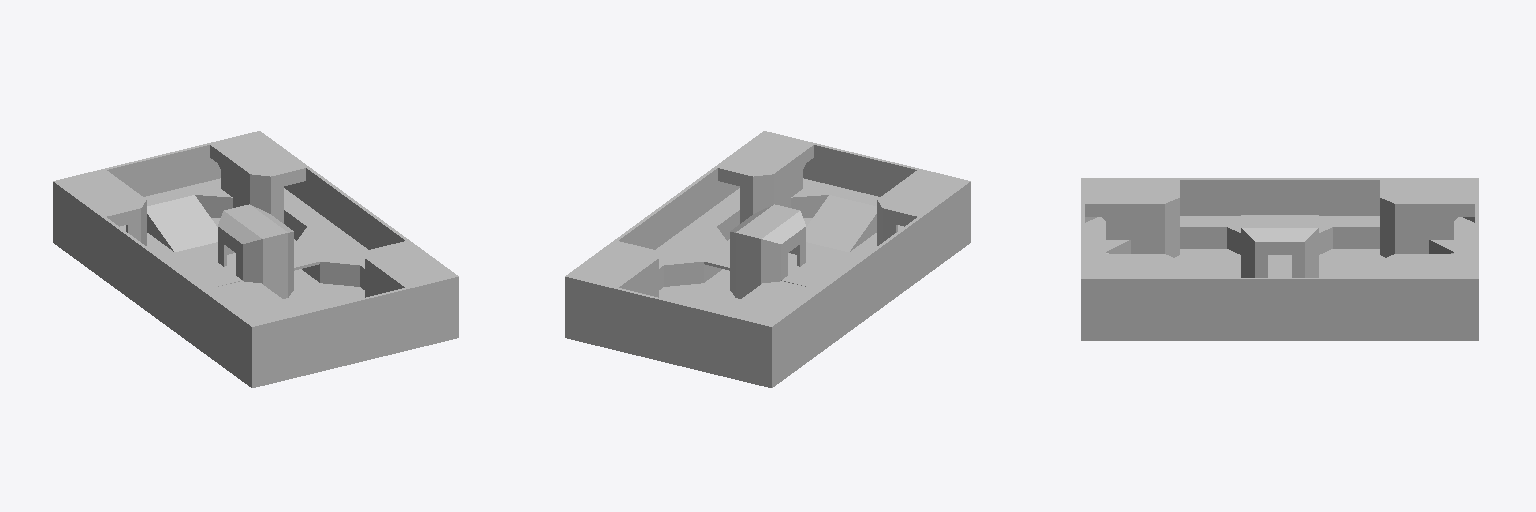
The model's file is M_Level_Test.obj.
The picture shows the model from 3 angles: view 1: azimuth 30°, elevation 25°; view 2: azimuth 150°, elevation 25°; view 3: azimuth 270°, elevation 25°; orthographic projection.
Visible parts, largest first — view 1: Model; view 2: Model; view 3: Model.
Boxes of the visible parts, box(x1,y1,x2,y2) form: Model: box(53, 131, 458, 387); Model: box(565, 131, 970, 387); Model: box(1081, 178, 1478, 340).
Bounding box in the file's own units: 24 × 7.6 × 40.